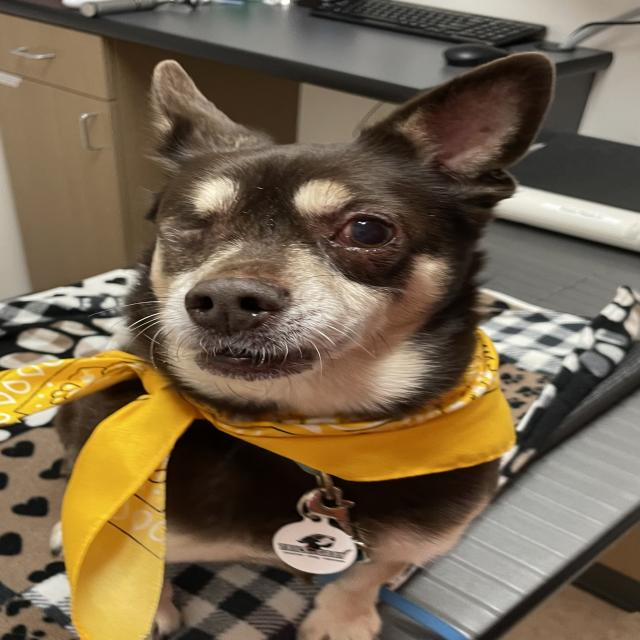corgi_dog: (95, 42, 564, 430)
